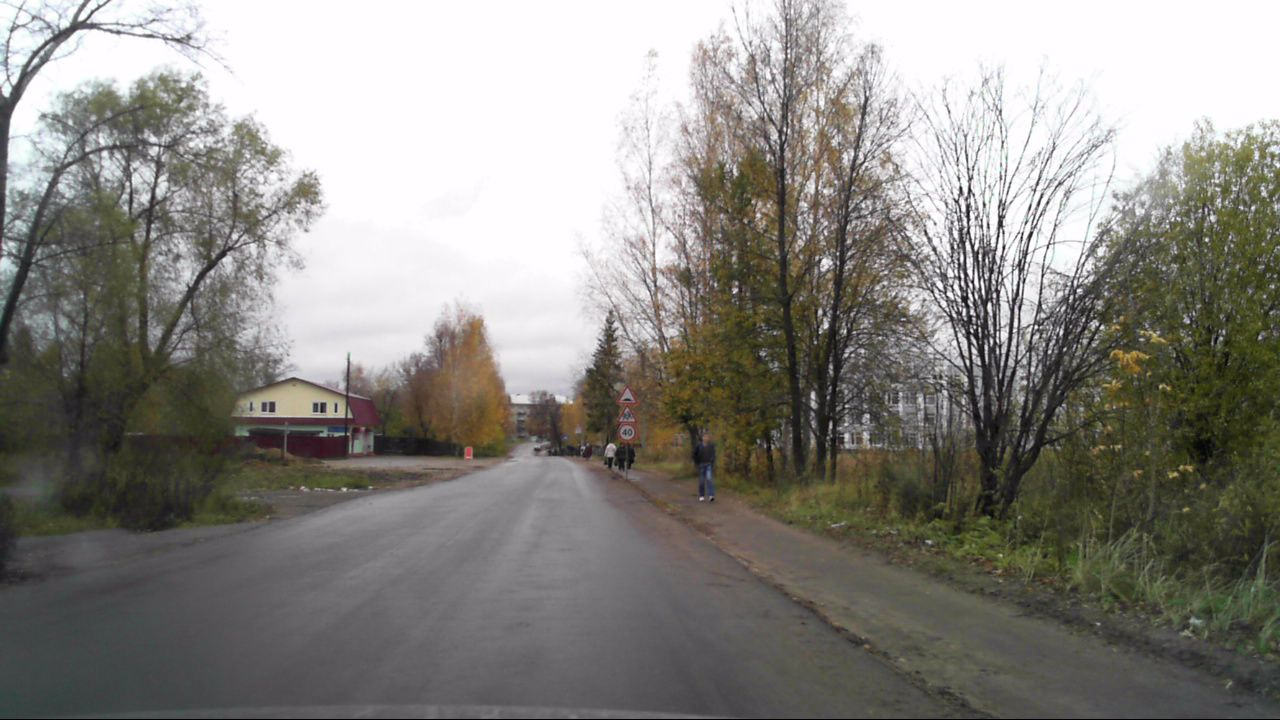speed_warning_40: (616, 421, 637, 441)
